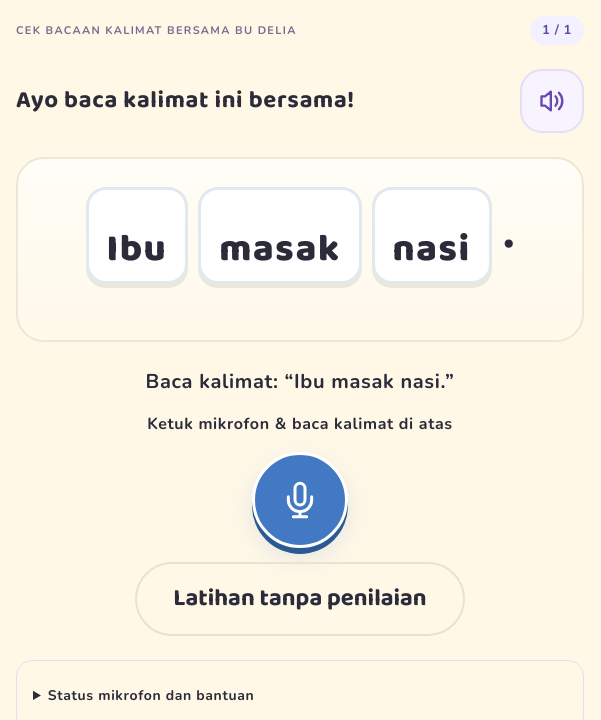
Test case: SpeechReadCheck with SentenceItem › renders sentence cards, prompt, and handles speech completion
This screenshot has width=601, height=720.
Expected: the text "Ibu" is shown, [106,226,167,273]
Expected: the text "masak" is shown, [219,226,340,273]
Click the button named "mulai membaca kalimat".
click(300, 500)  # box [252,452,348,548]
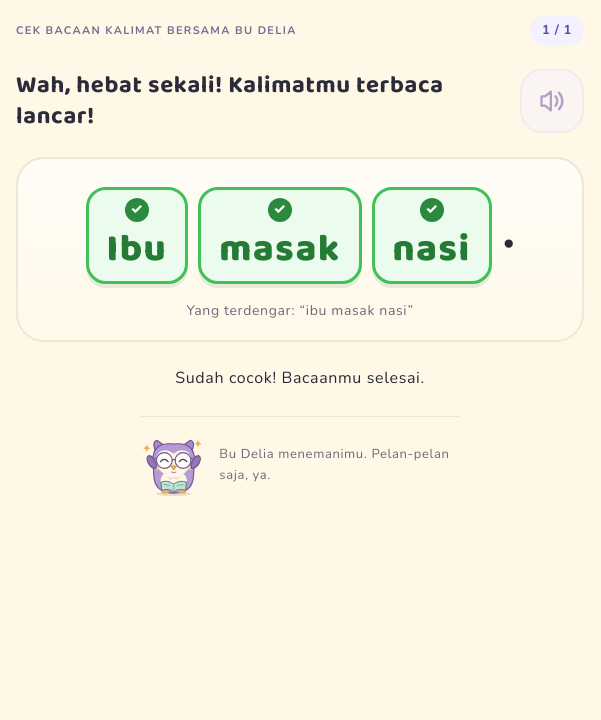
Now the text "Sudah cocok! Bacaanmu selesai." is shown, box [175,366,425,392]
